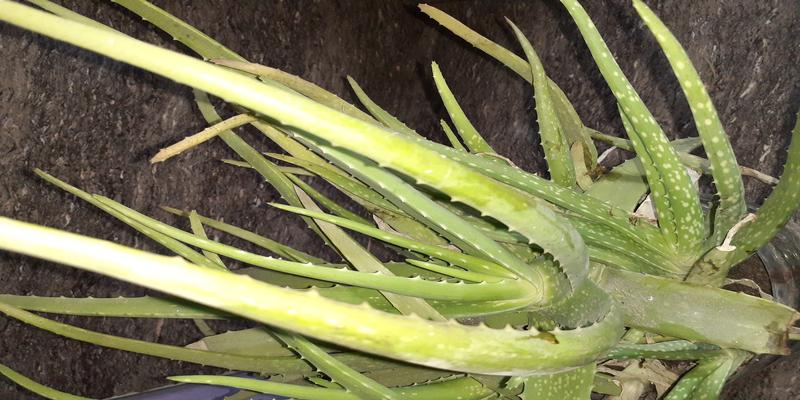Aloevera: (225, 109, 723, 382)
